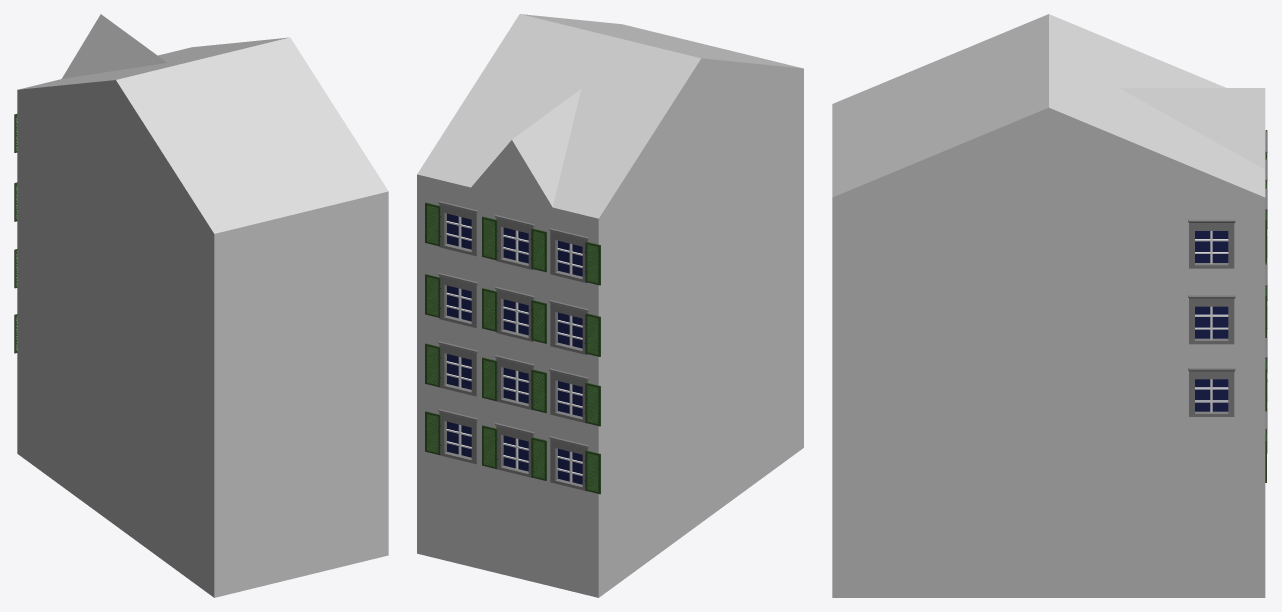
The model's file is Barock_CafeBar.fbx.
The picture shows the model from 3 angles, left to right: view 1: azimuth 30°, elevation 25°; view 2: azimuth 150°, elevation 25°; view 3: azimuth 270°, elevation 25°; orthographic projection. The views are drawn at different scales.
Visible parts, largest first — view 1: Cube.143; view 2: Cube.143, Cube.8854, Cube.8827, Cube.8836, Cube.8845, Cube.8842, Cube.8860, Cube.8833, Cube.8851, Cube.8839, Cube.8848, Cube.8857 (+29 smaller); view 3: Cube.143, Cube.8882, Cube.8885, Cube.8879, Cube.8877, Cube.8880, Cube.8883.
Part boxes in pixels (bbox=[...]): Cube.143: bbox=[17, 14, 388, 597]; Cube.143: bbox=[417, 14, 803, 597]; Cube.8854: bbox=[438, 201, 477, 256]; Cube.8827: bbox=[438, 409, 477, 464]; Cube.8836: bbox=[438, 341, 477, 396]; Cube.8845: bbox=[438, 273, 477, 327]; Cube.8842: bbox=[549, 368, 588, 423]; Cube.8860: bbox=[549, 228, 588, 283]; Cube.8833: bbox=[549, 436, 588, 491]; Cube.8851: bbox=[549, 300, 588, 355]; Cube.8839: bbox=[495, 355, 534, 410]; Cube.8848: bbox=[495, 287, 534, 341]; Cube.8857: bbox=[495, 215, 534, 270]; Cube.143: bbox=[832, 14, 1265, 597]; Cube.8882: bbox=[1188, 295, 1235, 344]; Cube.8885: bbox=[1188, 219, 1235, 268]; Cube.8879: bbox=[1188, 368, 1235, 416]; Cube.8877: bbox=[1195, 379, 1228, 411]; Cube.8880: bbox=[1195, 306, 1228, 338]; Cube.8883: bbox=[1195, 231, 1228, 262].
Size of the model in its own units: 823 by 1961 by 1578.
